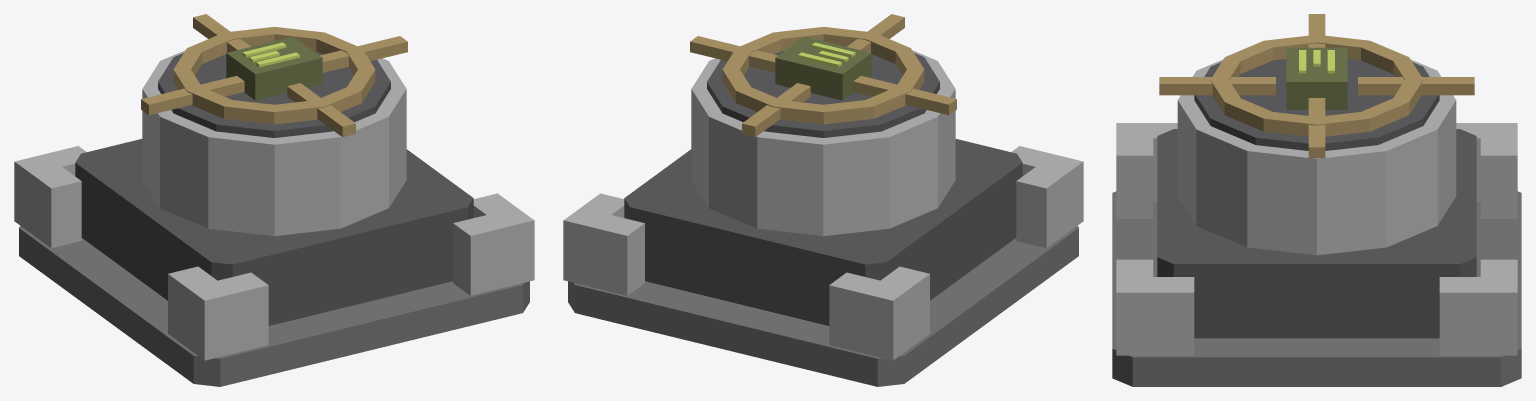
File: ship_computer_core_b8.obj
3 renders of one model, left to right at view 1: azimuth 30°, elevation 25°; view 2: azimuth 150°, elevation 25°; view 3: azimuth 270°, elevation 25°, orthographic. The views are drawn at different scales.
Parts seen in each view (by area): view 1: ship_computer_core_b8_9, ship_computer_core_b8_10, ship_computer_core_b8_0, ship_computer_core_b8_12, ship_computer_core_b8_5, ship_computer_core_b8_1, ship_computer_core_b8_11, ship_computer_core_b8_17, ship_computer_core_b8_4, ship_computer_core_b8_3, ship_computer_core_b8_2, ship_computer_core_b8_15 (+4 smaller); view 2: ship_computer_core_b8_9, ship_computer_core_b8_10, ship_computer_core_b8_0, ship_computer_core_b8_12, ship_computer_core_b8_7, ship_computer_core_b8_3, ship_computer_core_b8_11, ship_computer_core_b8_17, ship_computer_core_b8_2, ship_computer_core_b8_1, ship_computer_core_b8_4, ship_computer_core_b8_15 (+4 smaller); view 3: ship_computer_core_b8_9, ship_computer_core_b8_10, ship_computer_core_b8_0, ship_computer_core_b8_12, ship_computer_core_b8_11, ship_computer_core_b8_5, ship_computer_core_b8_7, ship_computer_core_b8_1, ship_computer_core_b8_3, ship_computer_core_b8_6, ship_computer_core_b8_8, ship_computer_core_b8_17 (+6 smaller).
Part boxes in pixels (<box>): ship_computer_core_b8_9: <box>75,139,473,325</box>; ship_computer_core_b8_10: <box>142,50,406,236</box>; ship_computer_core_b8_0: <box>19,226,529,386</box>; ship_computer_core_b8_12: <box>173,27,375,124</box>; ship_computer_core_b8_5: <box>453,207,534,295</box>; ship_computer_core_b8_1: <box>187,272,268,360</box>; ship_computer_core_b8_11: <box>158,51,390,137</box>; ship_computer_core_b8_17: <box>226,36,322,100</box>; ship_computer_core_b8_4: <box>32,167,81,248</box>; ship_computer_core_b8_3: <box>14,146,86,233</box>; ship_computer_core_b8_2: <box>168,266,216,347</box>; ship_computer_core_b8_15: <box>141,76,244,115</box>; ship_computer_core_b8_9: <box>624,139,1022,325</box>; ship_computer_core_b8_10: <box>691,50,955,236</box>; ship_computer_core_b8_0: <box>568,226,1078,386</box>; ship_computer_core_b8_12: <box>722,27,924,124</box>; ship_computer_core_b8_7: <box>563,207,644,295</box>; ship_computer_core_b8_3: <box>829,272,910,360</box>; ship_computer_core_b8_11: <box>707,51,939,137</box>; ship_computer_core_b8_17: <box>775,36,871,100</box>; ship_computer_core_b8_2: <box>1016,167,1065,248</box>; ship_computer_core_b8_1: <box>1011,146,1083,233</box>; ship_computer_core_b8_4: <box>881,266,929,347</box>; ship_computer_core_b8_15: <box>853,76,956,115</box>; ship_computer_core_b8_9: <box>1157,129,1476,338</box>; ship_computer_core_b8_10: <box>1177,59,1456,255</box>; ship_computer_core_b8_0: <box>1112,191,1521,386</box>; ship_computer_core_b8_12: <box>1210,34,1423,136</box>; ship_computer_core_b8_11: <box>1194,59,1439,150</box>; ship_computer_core_b8_5: <box>1116,259,1153,355</box>; ship_computer_core_b8_7: <box>1480,259,1517,355</box>; ship_computer_core_b8_1: <box>1116,123,1153,218</box>; ship_computer_core_b8_3: <box>1480,123,1517,218</box>; ship_computer_core_b8_6: <box>1153,277,1194,355</box>; ship_computer_core_b8_8: <box>1439,277,1480,355</box>; ship_computer_core_b8_17: <box>1286,47,1347,109</box>.
Bounding box in the file's own units: 2 × 1.28 × 2.
